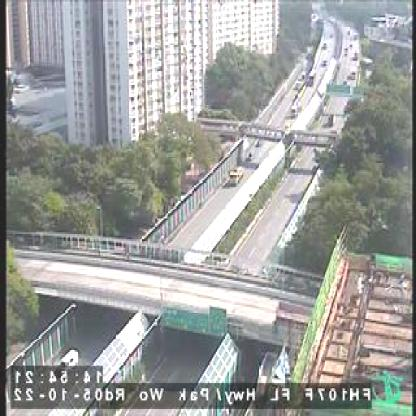Truck: (230, 168, 246, 187)
